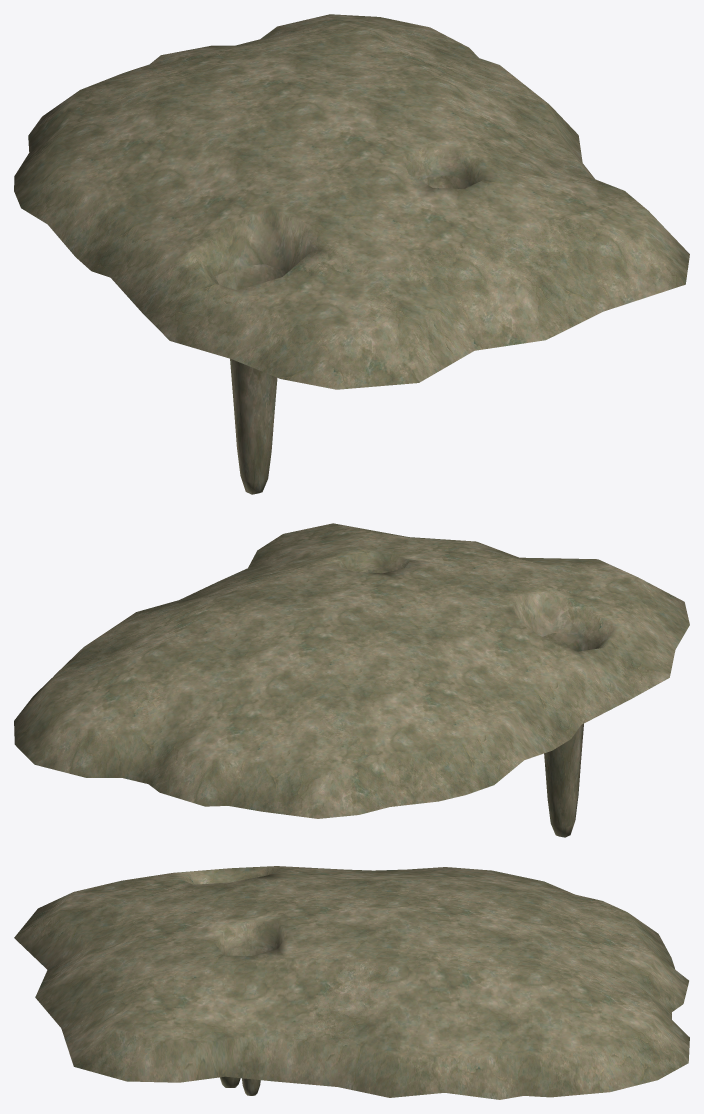
Rendered from OVERHILL_A_01_CAVE_ROOF.fbx.
The picture shows the model from 3 angles, top to bottom: view 1: azimuth 30°, elevation 25°; view 2: azimuth 150°, elevation 25°; view 3: azimuth 270°, elevation 25°; orthographic projection. The views are drawn at different scales.
Visible parts, largest first — view 1: OVERHILL_A_01_CAVE_ROOF; view 2: OVERHILL_A_01_CAVE_ROOF; view 3: OVERHILL_A_01_CAVE_ROOF.
Part boxes in pixels (x1,y1,x2,y2): OVERHILL_A_01_CAVE_ROOF: (14, 14, 689, 494); OVERHILL_A_01_CAVE_ROOF: (14, 523, 689, 837); OVERHILL_A_01_CAVE_ROOF: (14, 866, 689, 1099).
Bounding box in the file's own units: 149072 × 77703 × 190485.
1 material, 1 textured.
